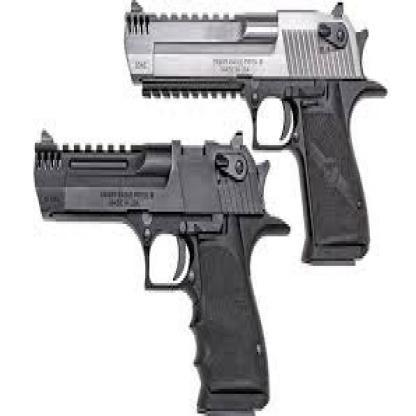Pistol: (28, 121, 288, 414), (119, 0, 387, 266)
